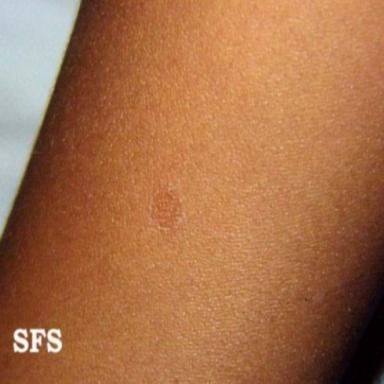Porokeratosis: (151, 189, 183, 231)
